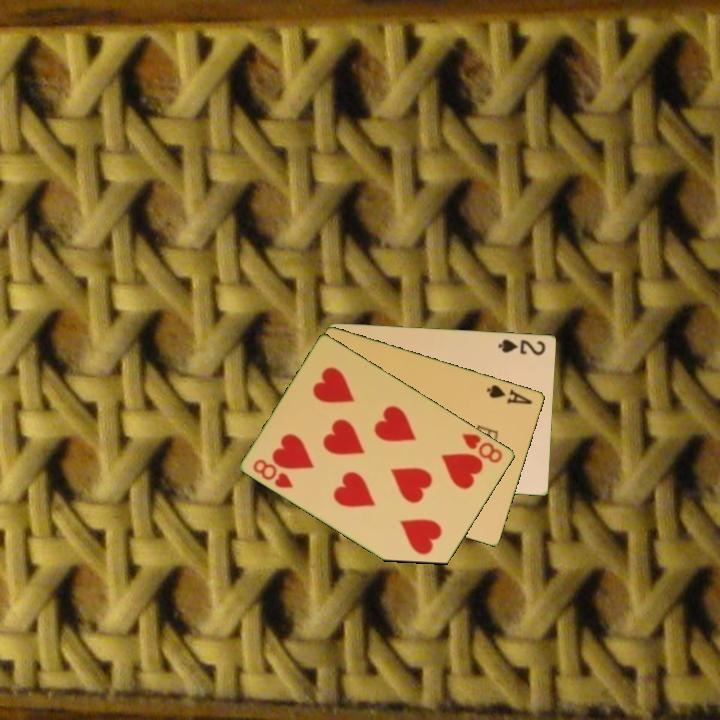2s: (495, 335, 548, 358)
8h: (459, 430, 506, 466), (250, 455, 296, 491)
As: (483, 381, 536, 407)
